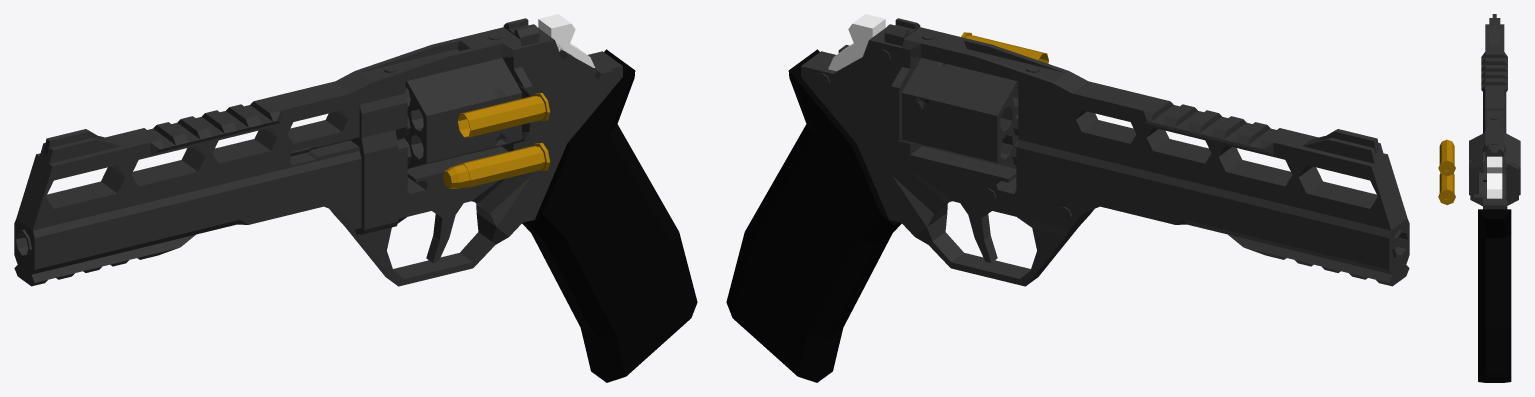
The model's file is rhino.glb.
3 renders of one model, left to right at view 1: azimuth 30°, elevation 25°; view 2: azimuth 150°, elevation 25°; view 3: azimuth 270°, elevation 25°, orthographic. The views are drawn at different scales.
Parts seen in each view (by area): view 1: Cube_2, Cylinder.001_4, Cylinder.004_5, Cylinder_0, Cylinder.002_1, Cube.001_6; view 2: Cube_2, Cylinder.001_4, Cube.001_6, Cylinder.002_1; view 3: Cube_2, Cylinder.001_4, Cube.001_6, Cylinder.002_1, Cylinder_0.
Boxes of the visible parts, left/top/right/bottom form: Cube_2: left=14, top=18, right=697, bottom=382; Cylinder.001_4: left=404, top=58, right=521, bottom=168; Cylinder.004_5: left=351, top=93, right=407, bottom=234; Cylinder_0: left=443, top=143, right=550, bottom=188; Cylinder.002_1: left=457, top=93, right=550, bottom=137; Cube.001_6: left=538, top=14, right=595, bottom=67; Cube_2: left=726, top=18, right=1409, bottom=382; Cylinder.001_4: left=902, top=58, right=1018, bottom=168; Cube.001_6: left=828, top=14, right=885, bottom=71; Cylinder.002_1: left=961, top=32, right=1048, bottom=63; Cube_2: left=1470, top=14, right=1518, bottom=382; Cylinder.001_4: left=1469, top=132, right=1520, bottom=195; Cube.001_6: left=1487, top=156, right=1502, bottom=198; Cylinder.002_1: left=1438, top=139, right=1455, bottom=176; Cylinder_0: left=1438, top=173, right=1455, bottom=204.
Size of the model in its own units: 2.8 by 1.49 by 0.5178.
